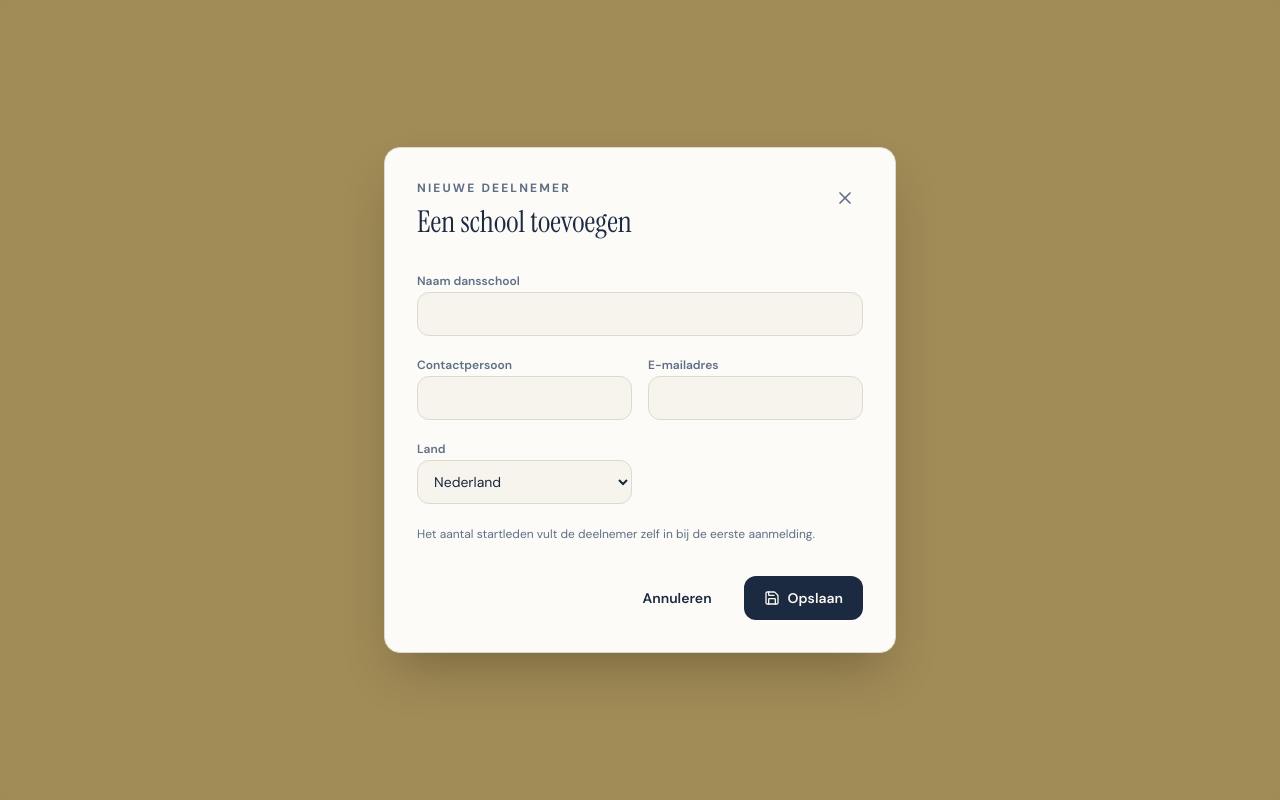
Test: ongeldige e-mailadressen in deelnemersbeheer › legt bij toevoegen uit dat een apenstaartje ontbreekt zonder op te slaan
Step 1. Type "Nieuwe dansschool" into the field with test id "input-participant-school-name" → (640, 314), box [417,292,863,336]
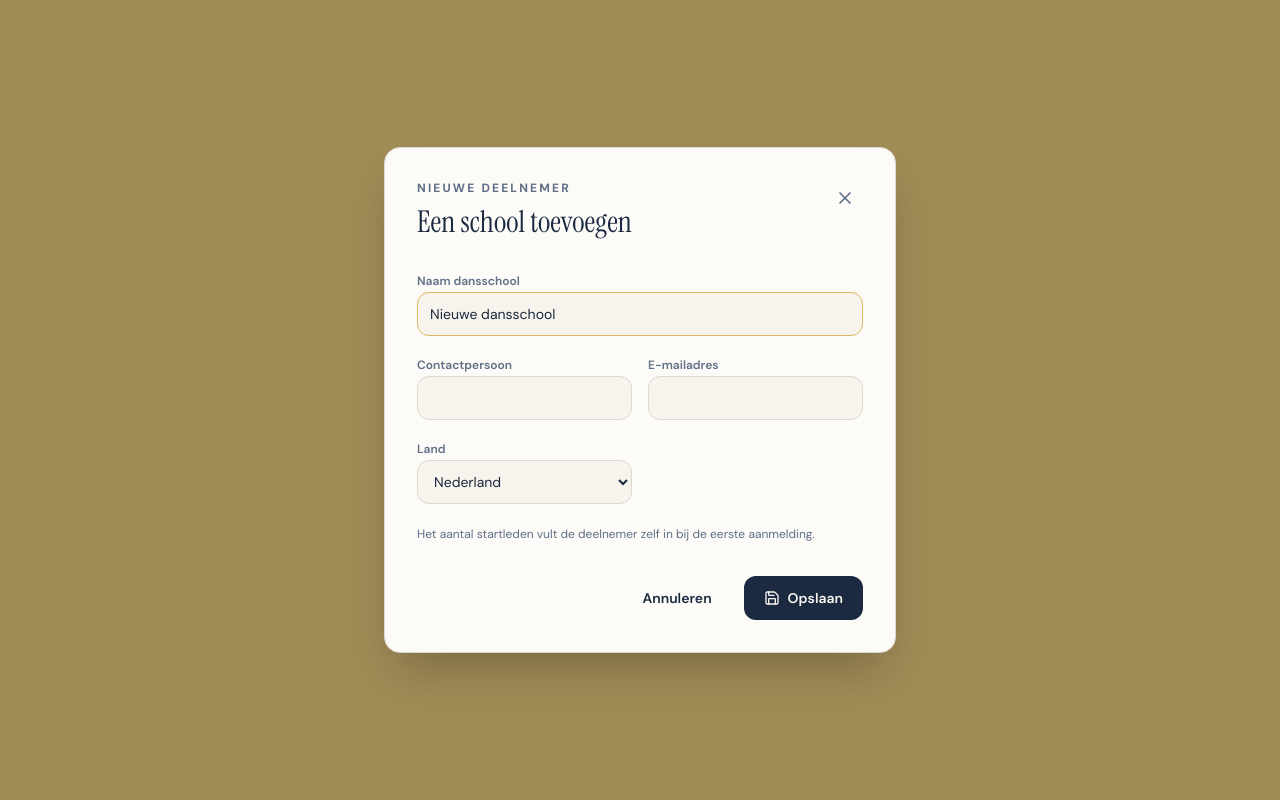
Step 2. Type "Nieuwe beheerder" into the field with test id "input-participant-contact-name" → (524, 398), box [417,376,632,420]
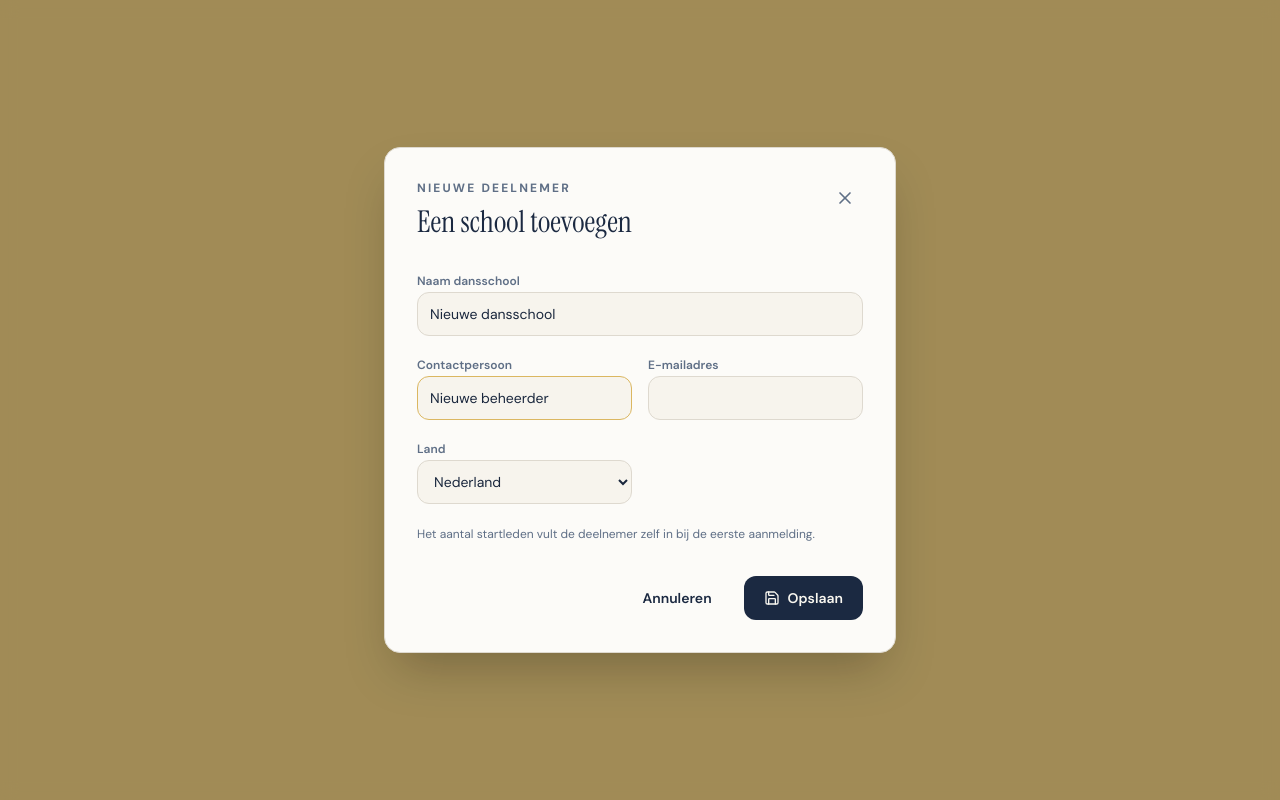
Step 3. Type "beheerder.example.nl" into the field with test id "input-participant-email" → (756, 398), box [648,376,863,420]
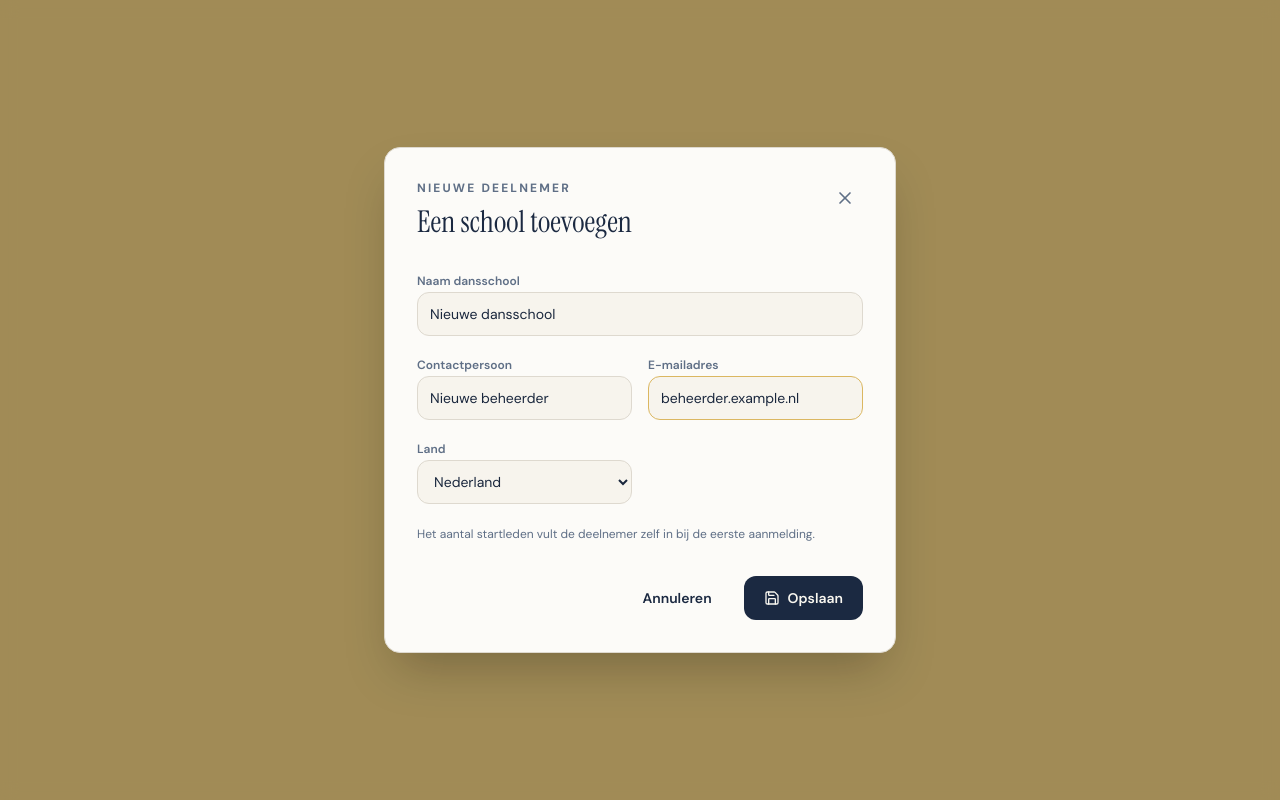
Step 4. Click the button with test id "button-save-participant" → (803, 598), box [744,576,863,620]
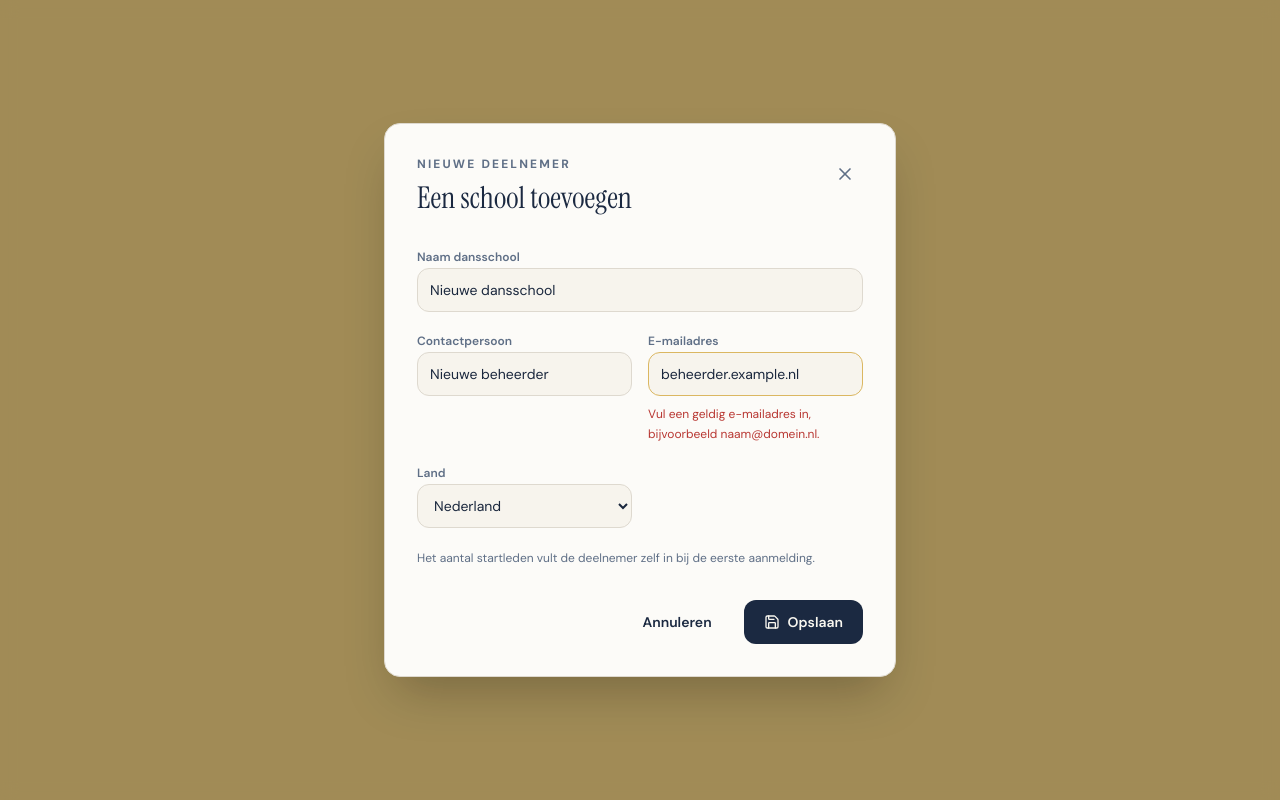
Check: the message reads "Vul een geldig e-mailadres in, bijvoorbeeld naam@domein.nl.", box [648,406,820,442]
